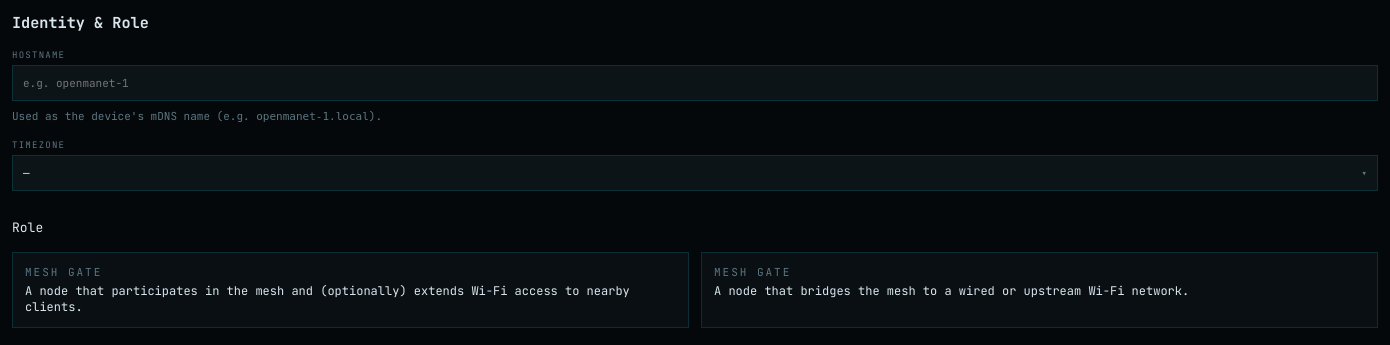
Test: TestStepIdentity_TimezoneSelect › renders the device-reported timezone list
Click the button named "Timezone". click: (27, 173)
box: [12,155,1378,191]
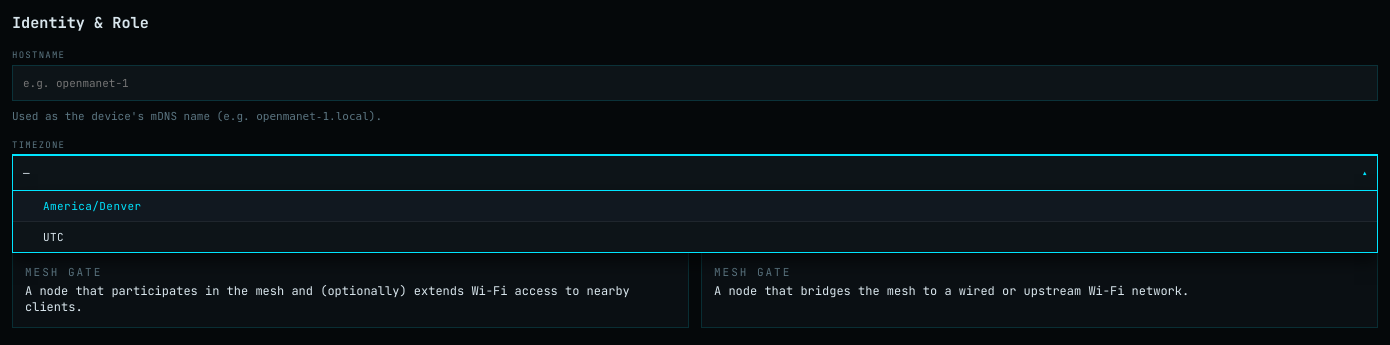
Expected: the options read "America/Denver", "UTC", in this order, [13,191,1377,222]; [13,222,1377,252]
